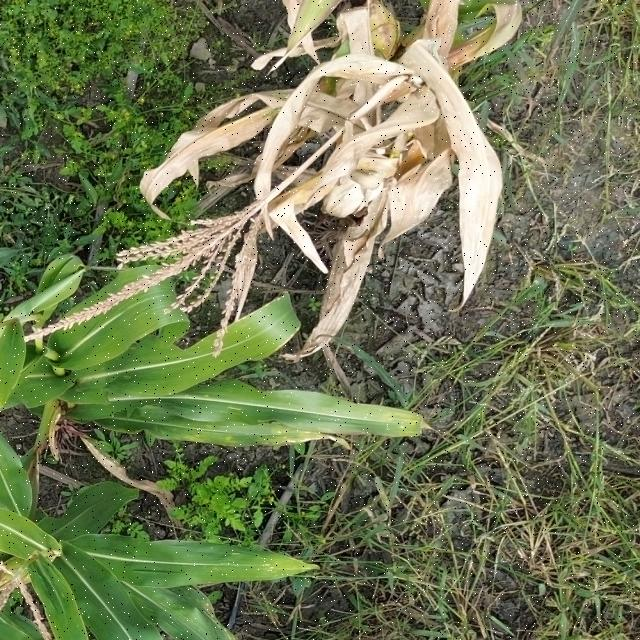southern-leaf-blight: (146, 378, 414, 464), (183, 517, 334, 618)
